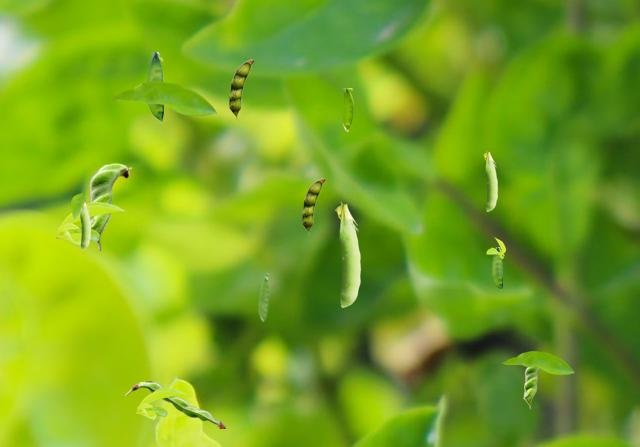pea: (125, 381, 225, 427), (89, 163, 131, 250), (335, 201, 359, 306), (229, 59, 253, 119), (302, 178, 324, 234), (147, 52, 162, 121), (483, 150, 496, 210), (523, 368, 540, 408), (258, 273, 268, 320), (80, 201, 89, 248), (492, 247, 501, 289), (343, 88, 352, 130)
